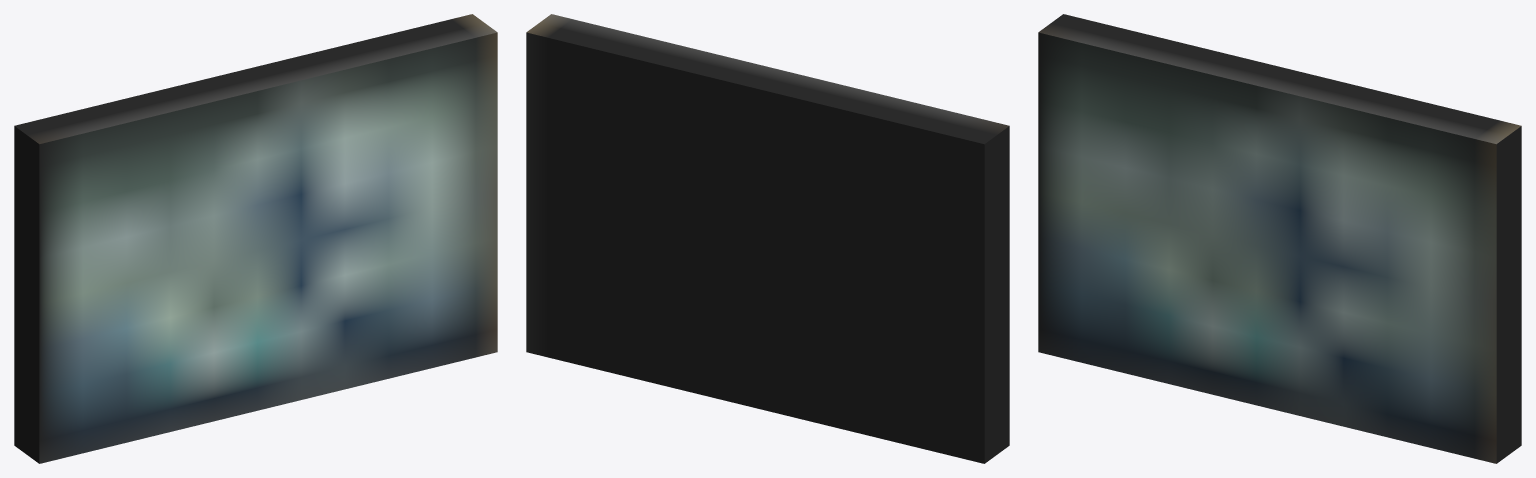
The model's file is PaitingBlue_A_00.fbx.
3 views of the same model, side by side, from view 1: azimuth 30°, elevation 25°; view 2: azimuth 150°, elevation 25°; view 3: azimuth 330°, elevation 25° (orthographic).
Parts seen in each view (by area): view 1: PaitingBlue_A_00; view 2: PaitingBlue_A_00; view 3: PaitingBlue_A_00.
Boxes of the visible parts, x1=… form: PaitingBlue_A_00: x1=14, y1=14, x2=497, y2=463; PaitingBlue_A_00: x1=526, y1=14, x2=1009, y2=463; PaitingBlue_A_00: x1=1038, y1=14, x2=1521, y2=463.
Bounding box in the file's own units: 105 × 10 × 70.
Materials: 1 (1 with a texture image).
